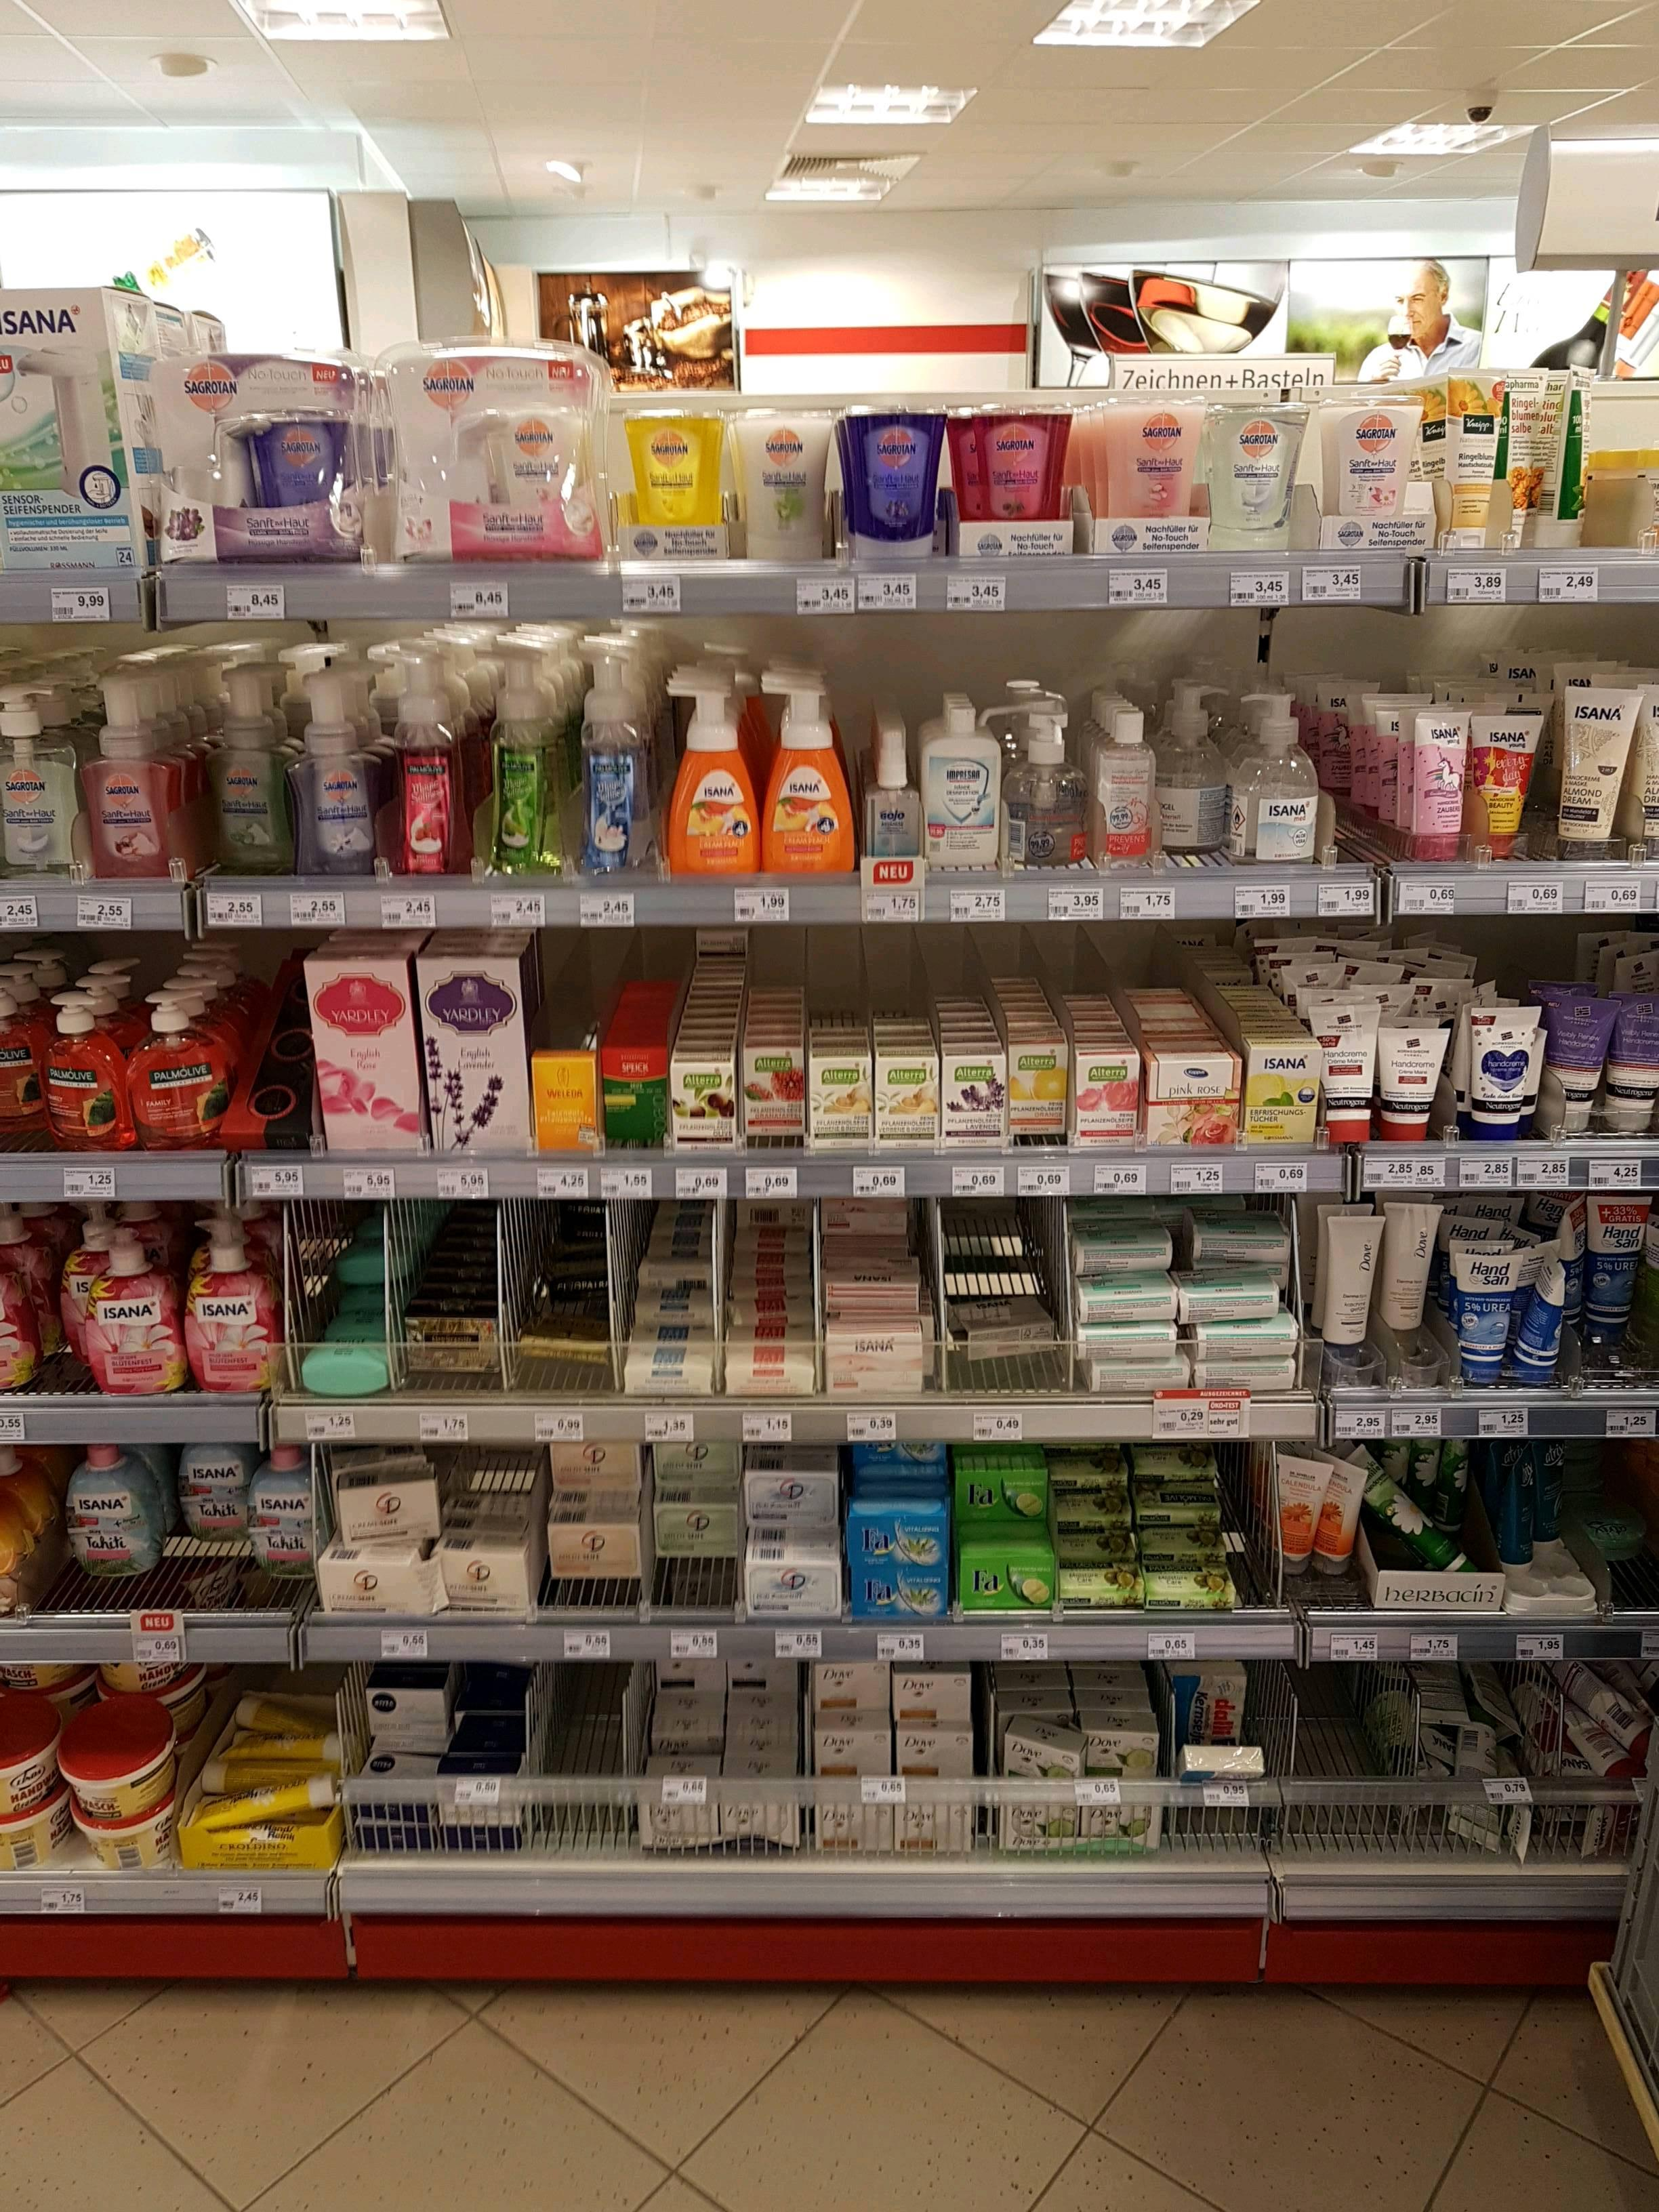misalignment: (1352, 1447, 1493, 1573), (293, 1230, 387, 1390), (951, 1280, 1063, 1372), (525, 1292, 610, 1371), (1182, 1723, 1263, 1789), (1276, 1451, 1319, 1568), (1326, 1447, 1361, 1575)
